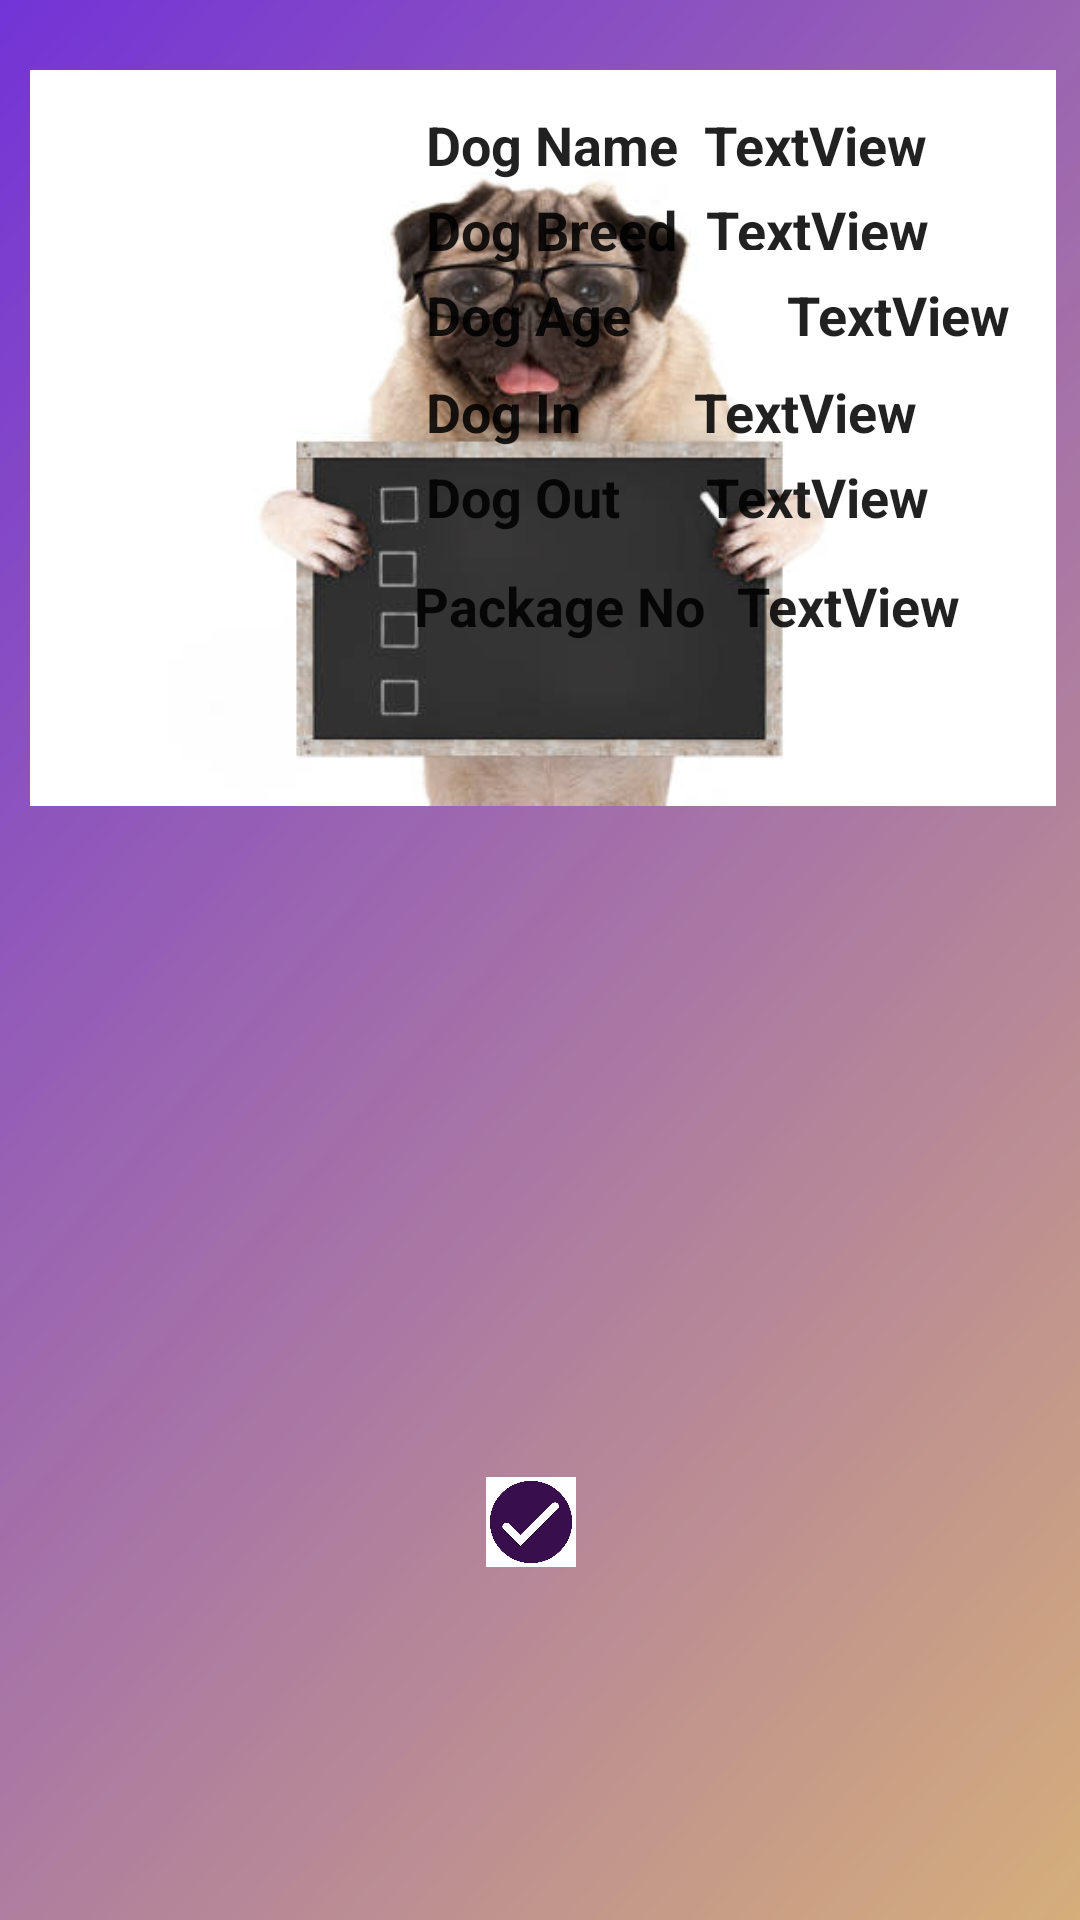

Icons on this 1080*1920 Android screen, each with the point to tap as (x=x, y=y):
success: (x=531, y=1522)
